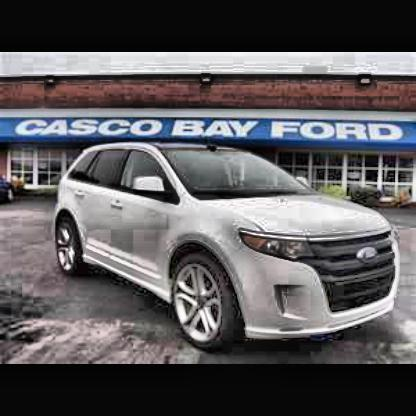Ford Edge SUV 2012: (54, 137, 404, 358)
